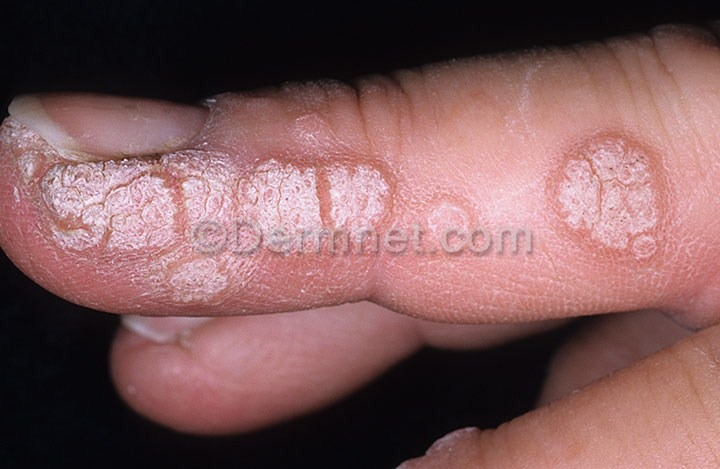Warts: (541, 123, 682, 261)
